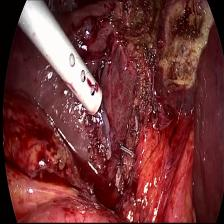Irrigator: (54, 33, 104, 119)
